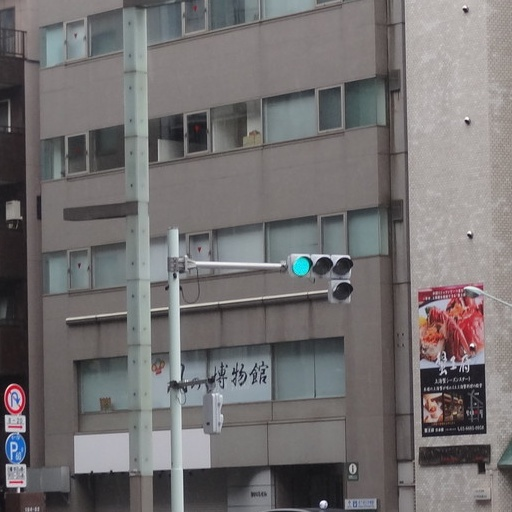Traffic_Signal_Blue: (284, 246, 357, 280)
